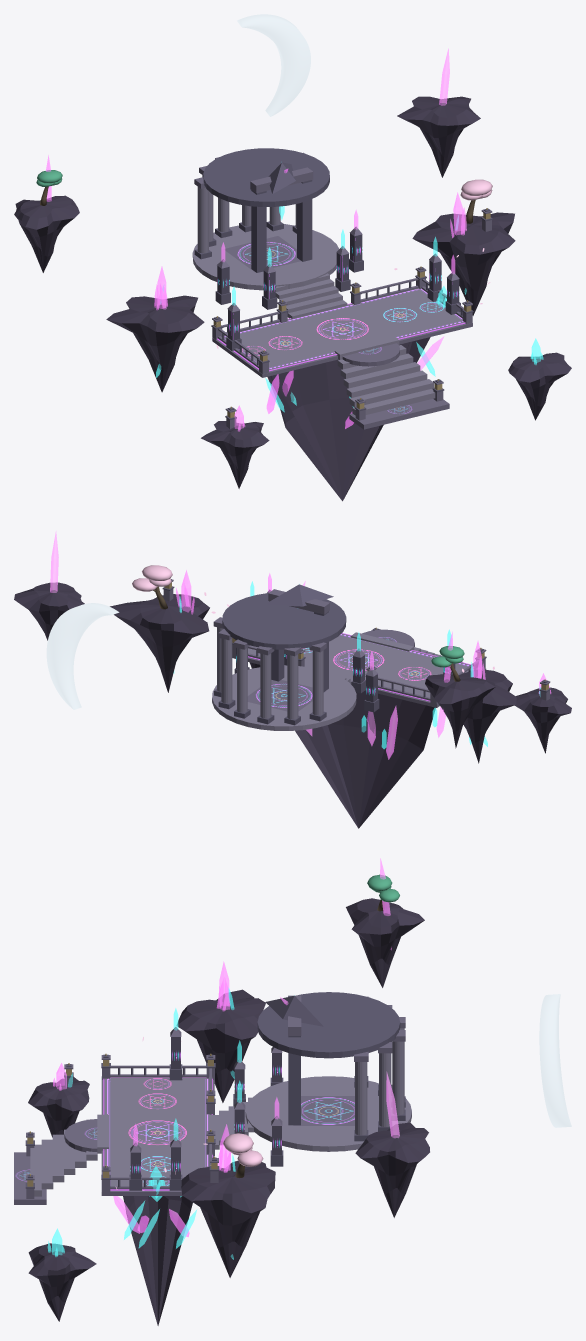
The model's file is KeyFury_3D_CelestialVoid_True3D.glb.
3 renders of one model, top to bottom at view 1: azimuth 30°, elevation 25°; view 2: azimuth 150°, elevation 25°; view 3: azimuth 270°, elevation 25°, orthographic. The views are drawn at different scales.
Parts seen in each view (by area): view 1: Arena_Magic_Floor_Plane, Arena_Rock_Underside, Temple_Entablature_Ring, Island_Right_Primary, Temple_Terrace_Deck, Island_Left_Primary, Celestial_Crescent_Moon, Island_Right_High, Island_Left_High, Island_Right_Forward, Island_Left_Forward, Temple_Seal_Plane (+11 smaller); view 2: Arena_Rock_Underside, Temple_Entablature_Ring, Island_Right_Primary, Arena_Magic_Floor_Plane, Temple_Terrace_Deck, Celestial_Crescent_Moon, Island_Left_High, Island_Left_Primary, Island_Right_High, Island_Left_Forward, Temple_Seal_Plane, Temple_Pediment_Peak (+12 smaller); view 3: Arena_Magic_Floor_Plane, Temple_Entablature_Ring, Island_Right_Primary, Temple_Terrace_Deck, Island_Left_Primary, Arena_Rock_Underside, Island_Right_High, Island_Left_High, Celestial_Crescent_Moon, Island_Right_Forward, Island_Left_Forward, Temple_Seal_Plane (+10 smaller).
Boxes of the visible parts, x1,y1,x2,y2 form: Arena_Magic_Floor_Plane: (224, 288, 463, 369); Arena_Rock_Underside: (267, 337, 430, 501); Temple_Entablature_Ring: (203, 148, 329, 206); Island_Right_Primary: (412, 212, 515, 315); Temple_Terrace_Deck: (192, 224, 338, 290); Island_Left_Primary: (106, 295, 204, 392); Celestial_Crescent_Moon: (237, 14, 310, 116); Island_Right_High: (397, 96, 480, 177); Island_Left_High: (14, 195, 79, 272); Island_Right_Forward: (508, 352, 571, 420); Island_Left_Forward: (201, 421, 269, 488); Temple_Seal_Plane: (224, 236, 300, 272); Arena_Rock_Underside: (295, 690, 435, 828); Temple_Entablature_Ring: (222, 593, 346, 649); Island_Right_Primary: (110, 594, 209, 692); Arena_Magic_Floor_Plane: (248, 634, 473, 697); Temple_Terrace_Deck: (212, 665, 356, 730); Celestial_Crescent_Moon: (46, 603, 119, 709); Island_Left_High: (425, 674, 495, 748); Island_Left_Primary: (428, 669, 516, 763); Island_Right_High: (14, 582, 84, 640); Island_Left_Forward: (514, 687, 571, 753); Temple_Seal_Plane: (247, 680, 325, 711); Temple_Pediment_Peak: (265, 584, 333, 606); Arena_Magic_Floor_Plane: (106, 1077, 209, 1185); Temple_Entablature_Ring: (257, 992, 400, 1058); Island_Right_Primary: (181, 1160, 275, 1277); Temple_Terrace_Deck: (245, 1076, 411, 1151); Island_Left_Primary: (176, 989, 265, 1102); Arena_Rock_Underside: (123, 1196, 192, 1325); Island_Right_High: (355, 1122, 429, 1217); Island_Left_High: (346, 898, 424, 987); Celestial_Crescent_Moon: (539, 994, 571, 1127); Island_Right_Forward: (28, 1243, 96, 1321); Island_Left_Forward: (28, 1077, 89, 1137); Temple_Seal_Plane: (293, 1096, 354, 1125).
Bounding box in the file's own units: 40.96 × 27.93 × 37.57.
